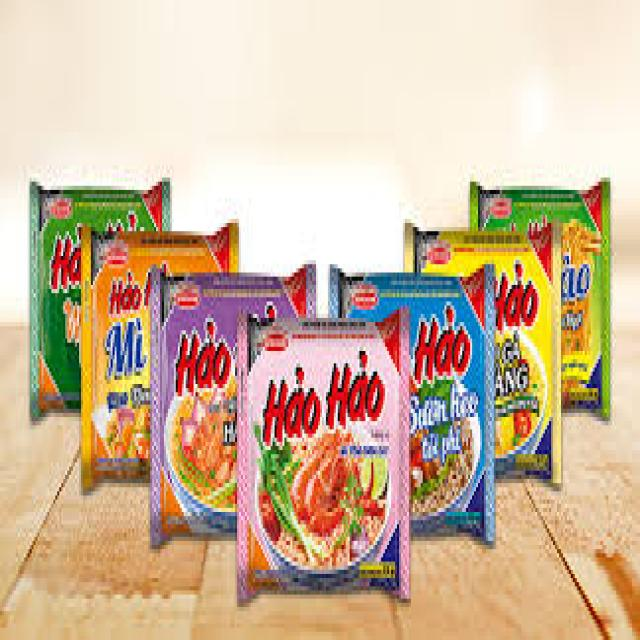mi hao hao: (233, 302, 415, 612)
